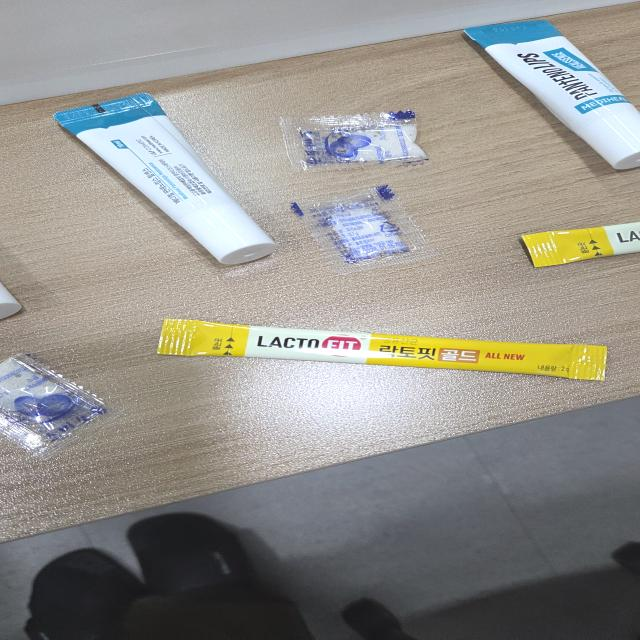lacto: (145, 312, 619, 386), (516, 215, 640, 279)
lip: (45, 89, 295, 274), (452, 14, 640, 180), (0, 266, 37, 326)
salt: (0, 345, 144, 473), (281, 181, 447, 279), (272, 105, 442, 182)
